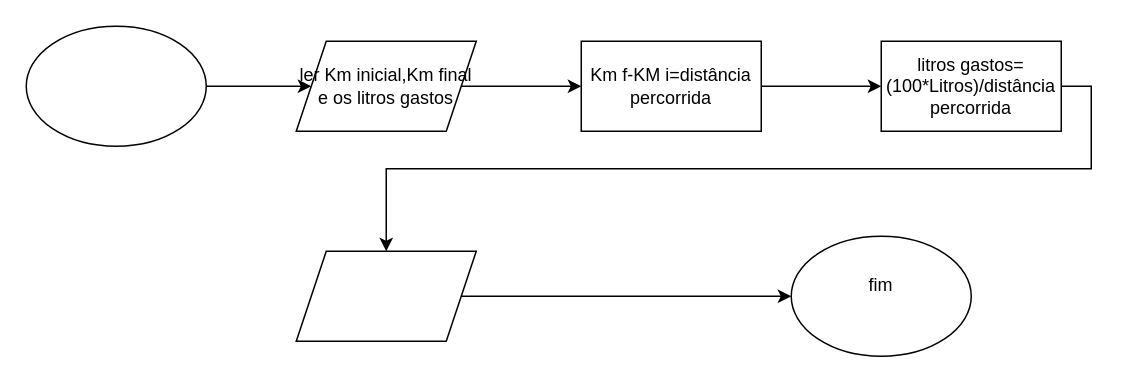
Some shapes in this 1130 by 383 pixel diagram are drawn without their labels. The shapes that lost their labels are listed below. From the top down, each one's box as (x1, y1, x2, y2) in pixels, then its label:
(25, 25, 206, 146): inicio
(295, 250, 476, 341): resultado=litros gastos
